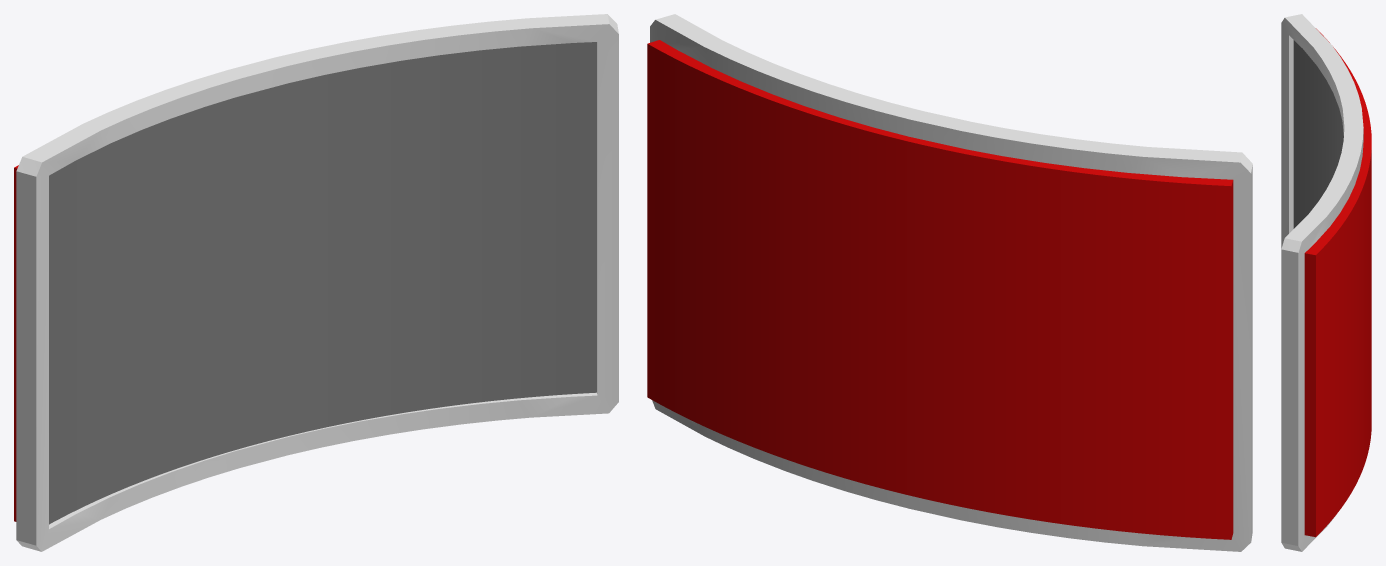
The model's file is Center Screen.fbx.
The picture shows the model from 3 angles, left to right: view 1: azimuth 30°, elevation 25°; view 2: azimuth 150°, elevation 25°; view 3: azimuth 270°, elevation 25°; orthographic projection. The views are drawn at different scales.
Visible parts, largest first — view 1: screens1, Rectangle002, frame; view 2: frame, Rectangle002; view 3: frame, Rectangle002, screens1.
Part boxes in pixels (box(x1,y1,x2,y2)): screens1: box(49, 42, 596, 524); Rectangle002: box(16, 14, 618, 551); frame: box(14, 165, 18, 521); frame: box(647, 40, 1233, 539); Rectangle002: box(650, 14, 1252, 551); frame: box(1304, 28, 1371, 537); Rectangle002: box(1281, 14, 1363, 551); screens1: box(1293, 40, 1343, 228).
Size of the model in its own units: 391 by 242 by 64.
